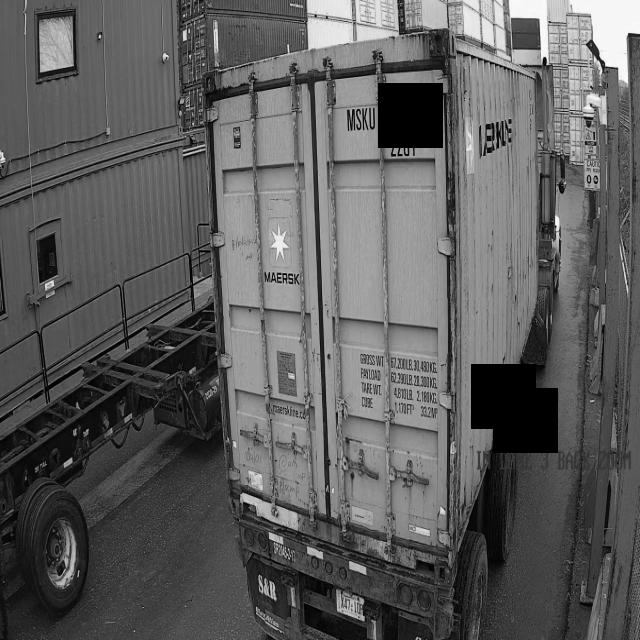container_company_logo: (265, 216, 301, 289)
container_number: (347, 95, 444, 157)
license_plate: (337, 587, 366, 618)
other_container_info: (349, 341, 434, 416)
truck_trailer: (0, 282, 235, 613)
truck_with_container: (221, 32, 566, 640)
